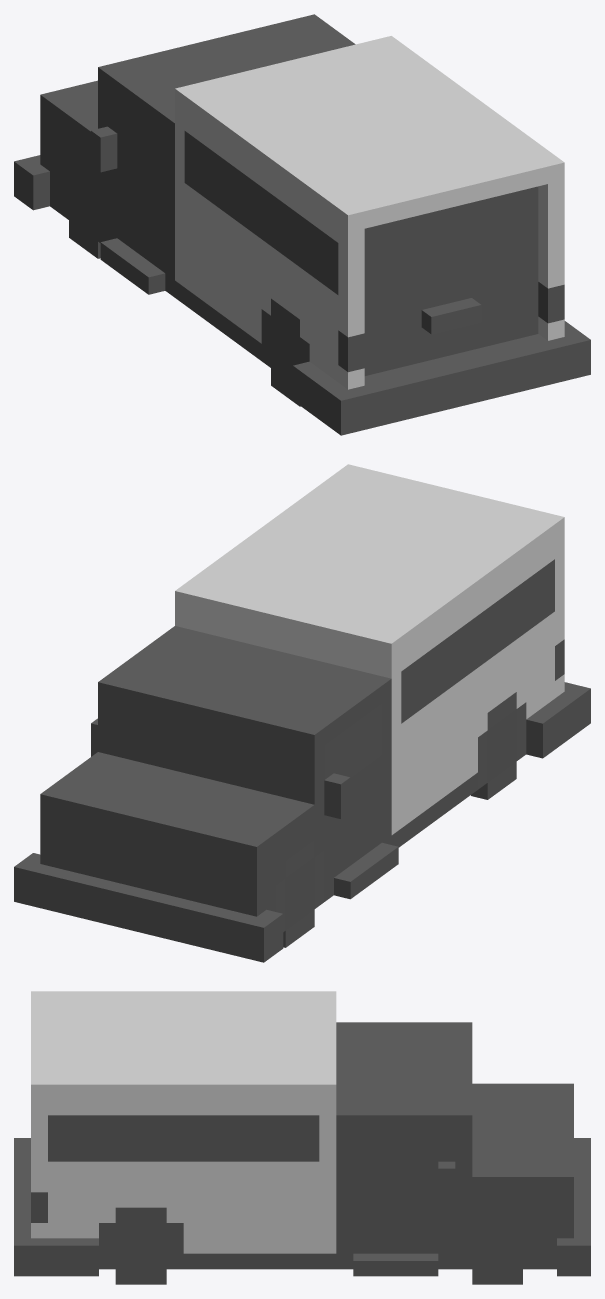
The model's file is veh_truck2.obj.
The picture shows the model from 3 angles, top to bottom: view 1: azimuth 30°, elevation 25°; view 2: azimuth 150°, elevation 25°; view 3: azimuth 270°, elevation 25°; orthographic projection. The views are drawn at different scales.
Bounding box in the file's own units: 15 × 13 × 34.
